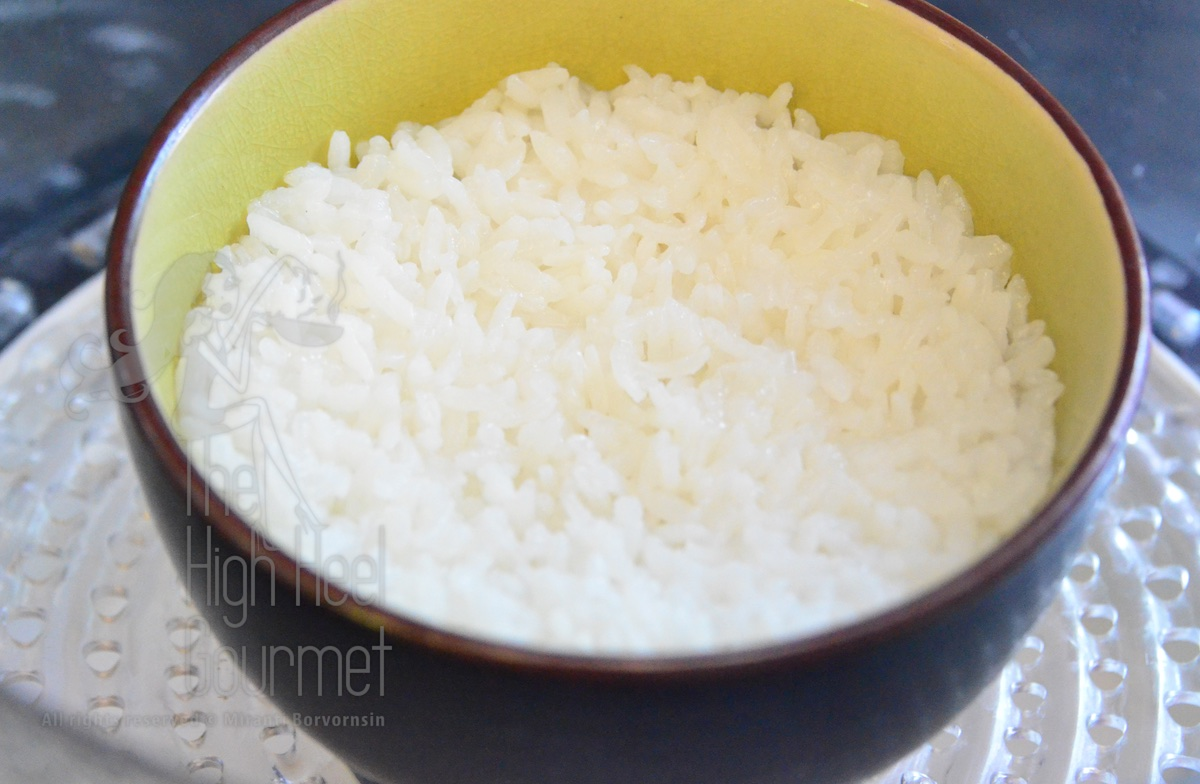plain rice: (221, 142, 1047, 561)
